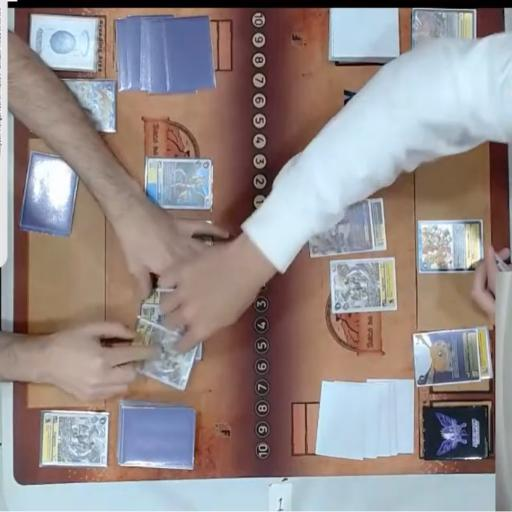card: (40, 76, 120, 140), (128, 318, 195, 392), (410, 326, 482, 384), (144, 154, 216, 210), (332, 258, 400, 316), (418, 221, 480, 280), (41, 412, 106, 468), (140, 304, 204, 357), (308, 200, 368, 256), (414, 9, 477, 57), (366, 198, 390, 254), (476, 326, 492, 380), (148, 288, 180, 308)
